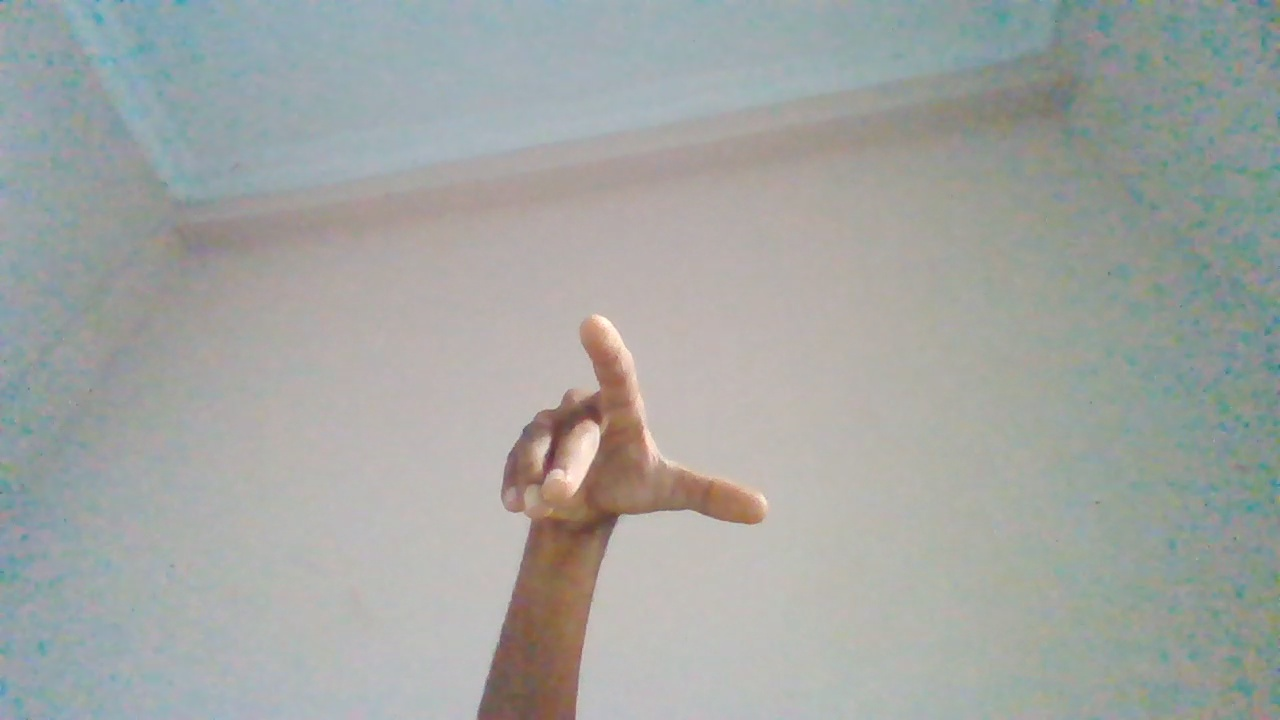ke: (497, 312, 777, 659)
